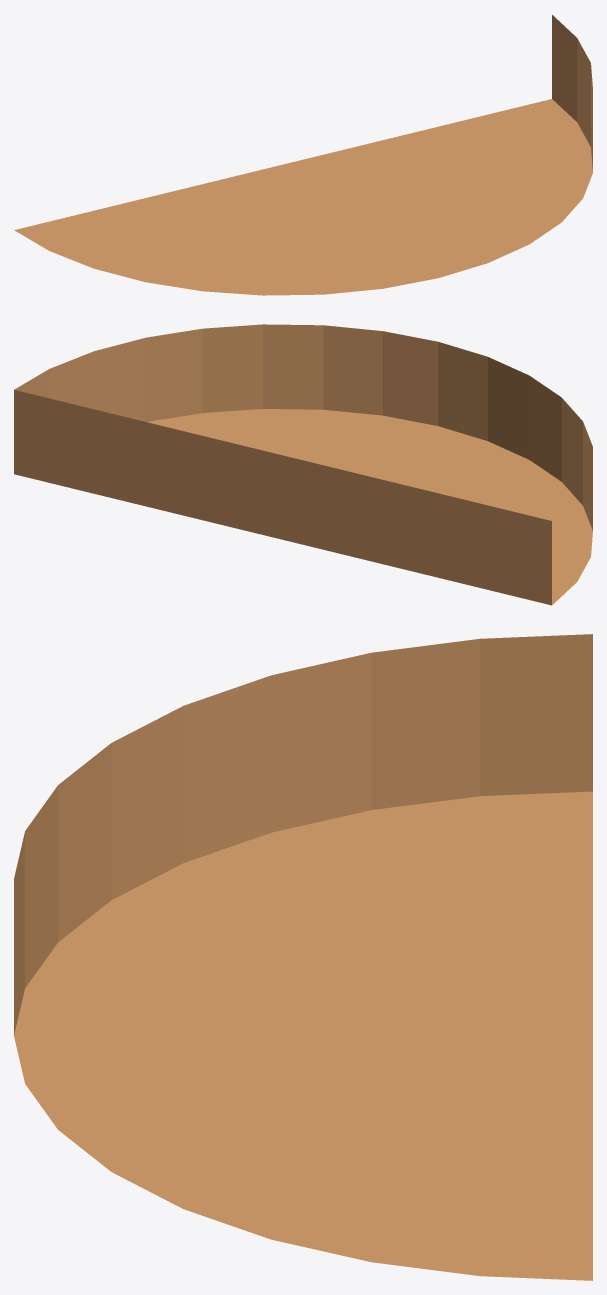
File: 3d-elementary-fraction-half-orange-20260125.glb
3 views of the same model, one above another, from view 1: azimuth 30°, elevation 25°; view 2: azimuth 150°, elevation 25°; view 3: azimuth 270°, elevation 25° (orthographic). The views are drawn at different scales.
Visible parts, largest first — view 1: FractionHalf; view 2: FractionHalf; view 3: FractionHalf.
Boxes of the visible parts, bbox=[...] form: FractionHalf: bbox=[14, 15, 592, 295]; FractionHalf: bbox=[14, 324, 592, 605]; FractionHalf: bbox=[14, 634, 592, 1280].
Size of the model in its own units: 2 by 0.3 by 1.
